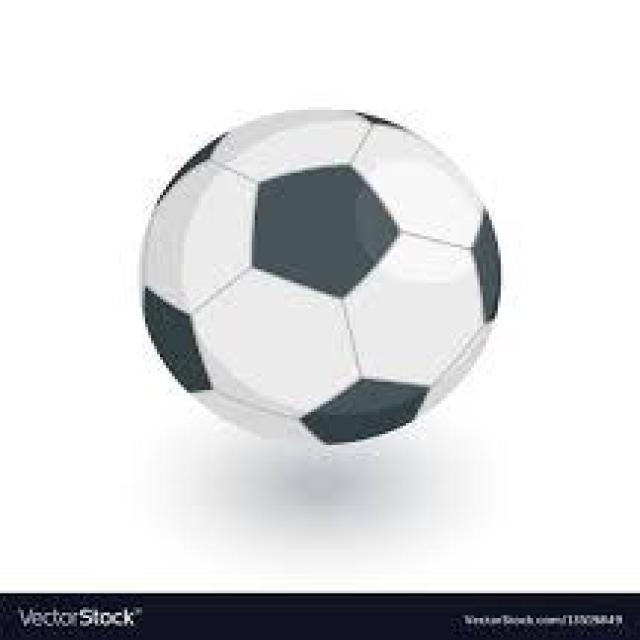Soccer Ball: (148, 107, 501, 451)
